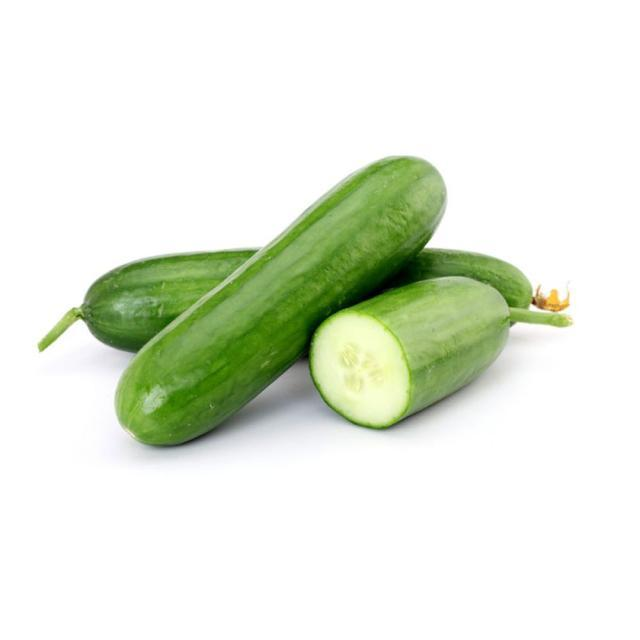cucumber: (112, 157, 452, 451), (306, 275, 508, 429), (78, 250, 259, 352)
